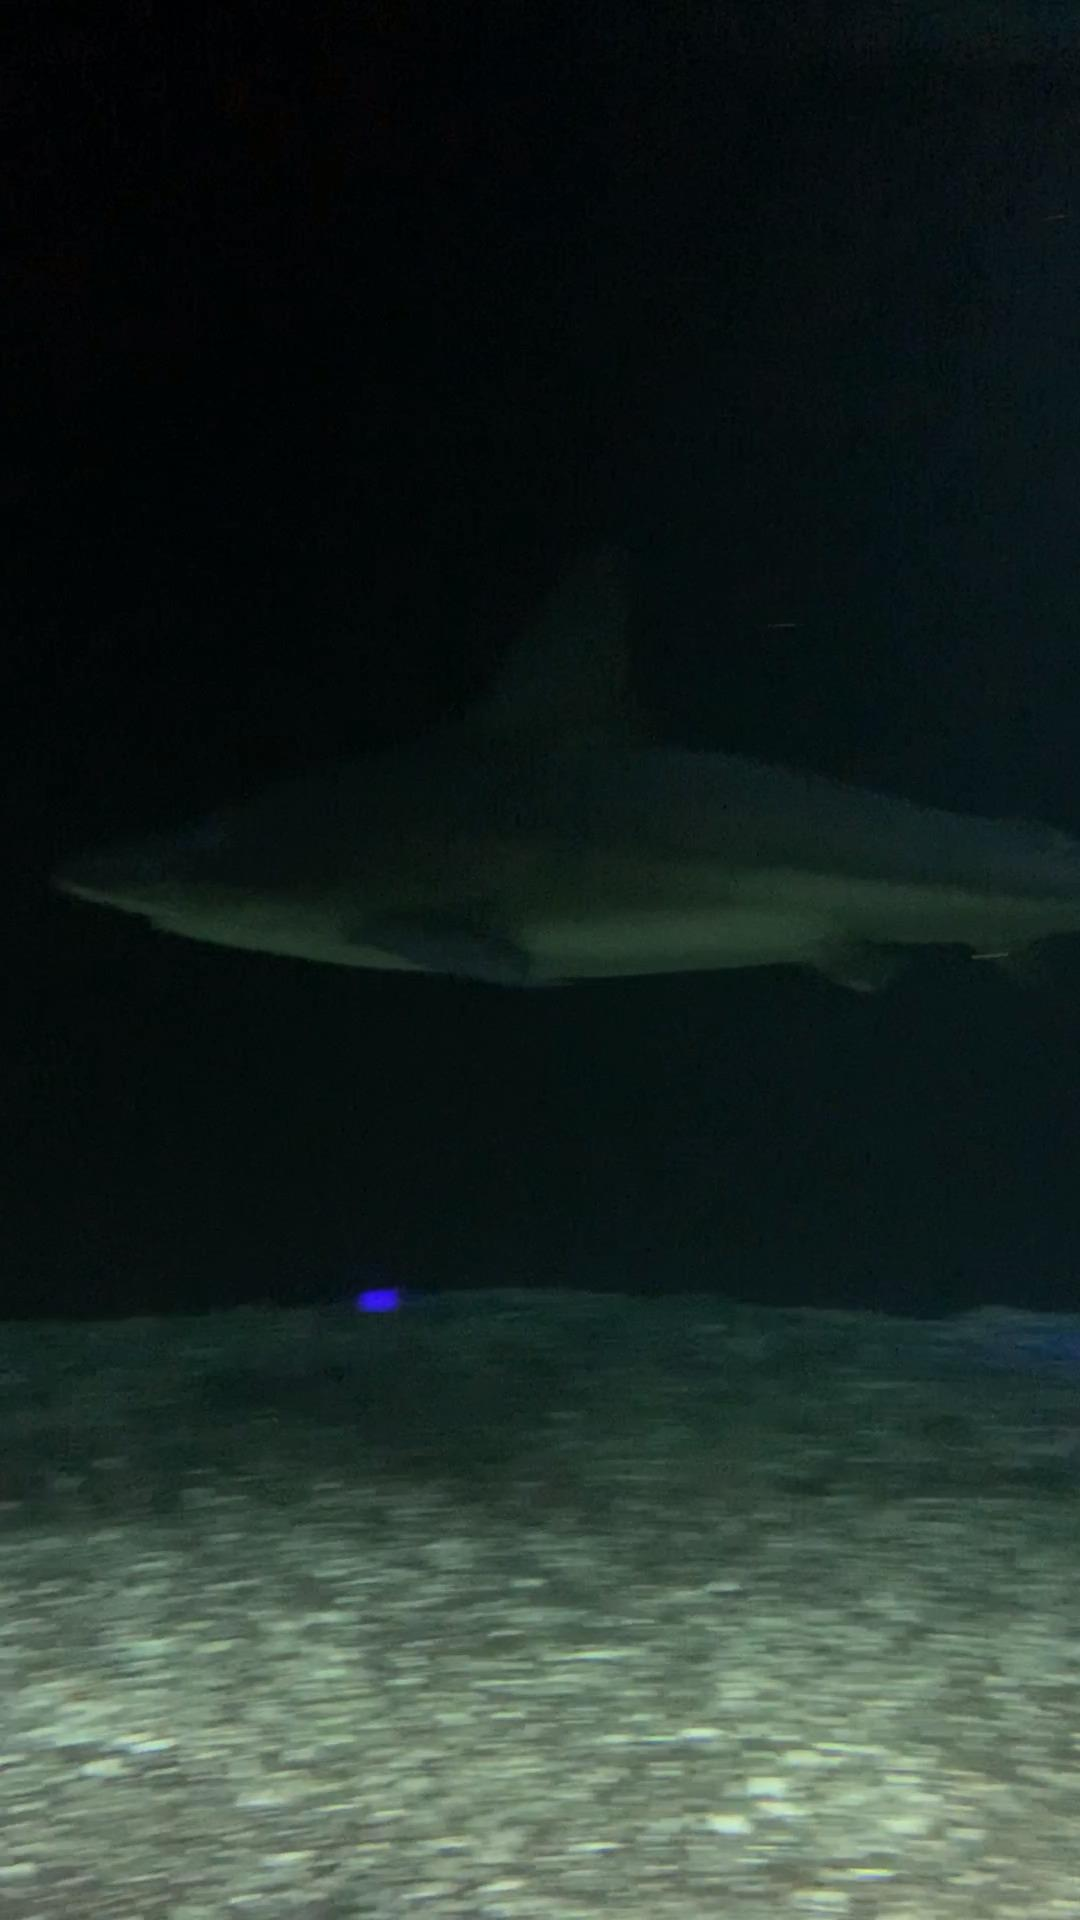shark: (46, 551, 1080, 992)
